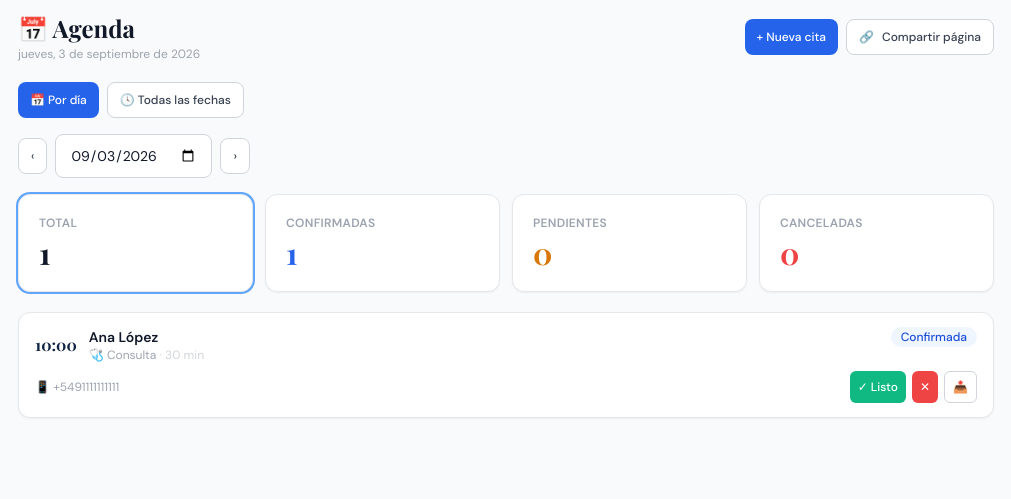
Test: AgendaPage — vista unificada (reemplaza Hoy/Mañana/Pendientes) › el chip "Pendientes" del día oculta las citas confirmadas
Check: the text "Ana López" is shown, box [89, 328, 158, 346]
Click the text "Pendientes". click: (570, 223)
box: [533, 215, 607, 231]
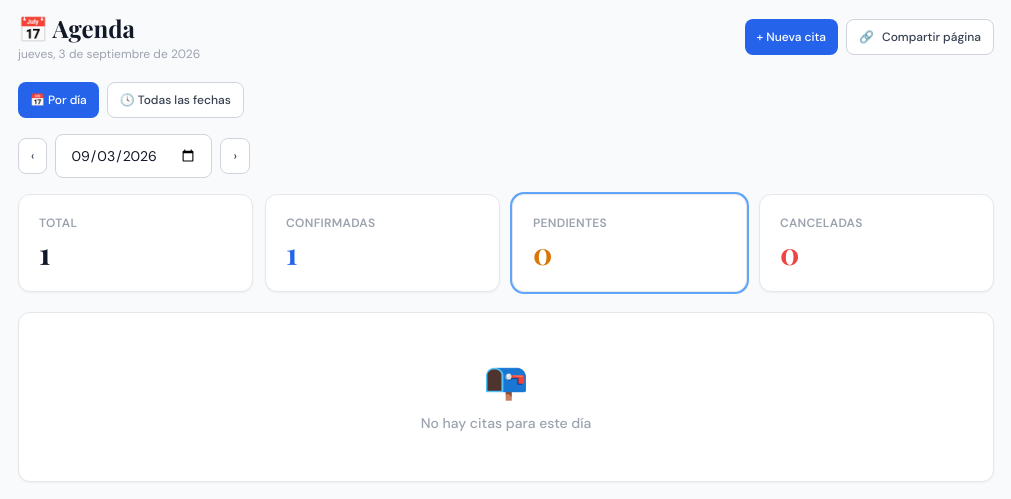
Check: the text "No hay citas para este día" is shown, box [421, 414, 591, 432]
